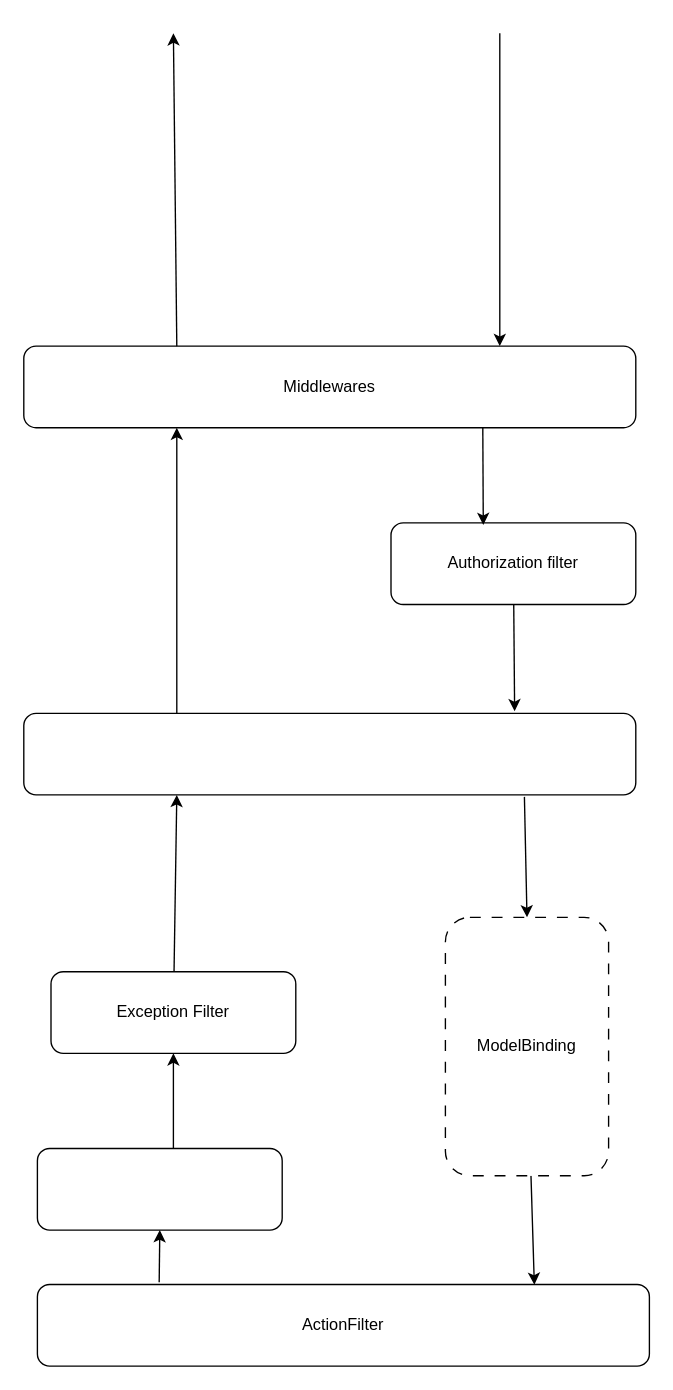
This 673x1390 diagram has some shape labels left out. The centre of each missing label's shape, as x and y in pixels:
"Resource Filter" belongs at point (329, 753).
"ResultFiler" belongs at point (159, 1188).
